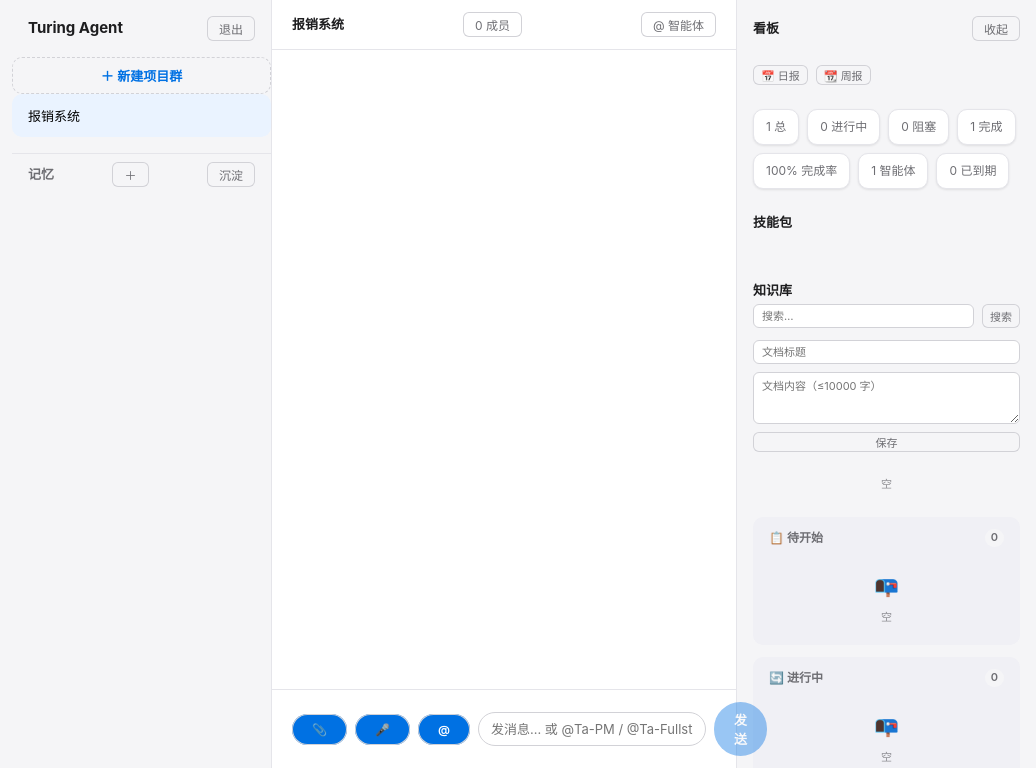
Test: Chat › sends a daily report message
Click the button "📅 日报".
click(780, 75)  # box [753, 65, 808, 85]
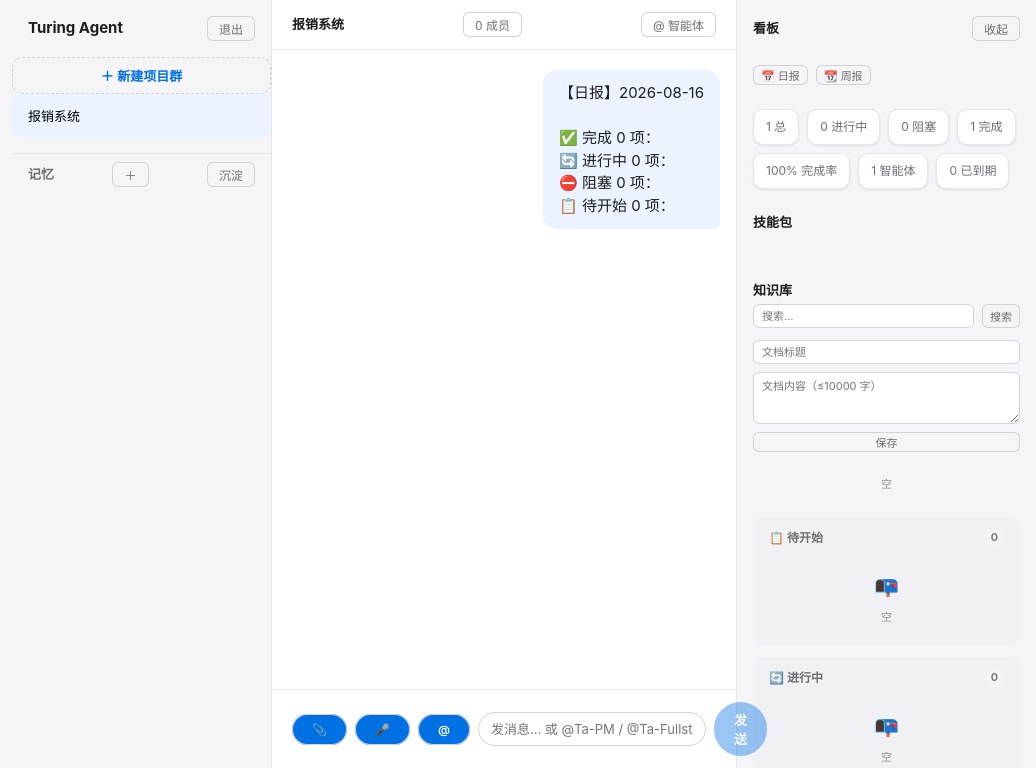
Result: the text "【日报】2026-08-16 ✅ 完成 0 项： 🔄 进行中 0 项： ⛔ 阻塞 0 项： 📋 待开始 0 项：" is shown at [543, 70, 720, 229]
